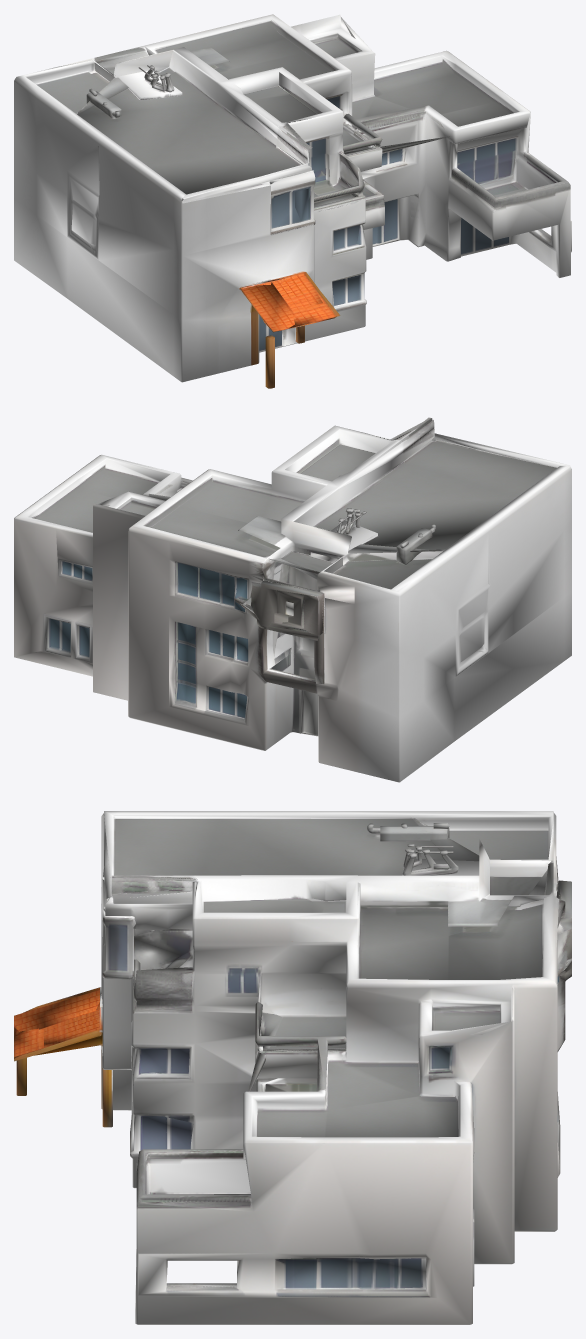
File: bld_556597979.glb
3 views of the same model, one above another, from view 1: azimuth 30°, elevation 25°; view 2: azimuth 150°, elevation 25°; view 3: azimuth 270°, elevation 25° (orthographic). The views are drawn at different scales.
Bounding box in the file's own units: 1.91 × 0.9041 × 1.68.
Materials: 1 (1 with a texture image).
